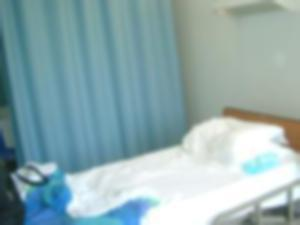Otro Obstaculo: (0, 0, 186, 145)
